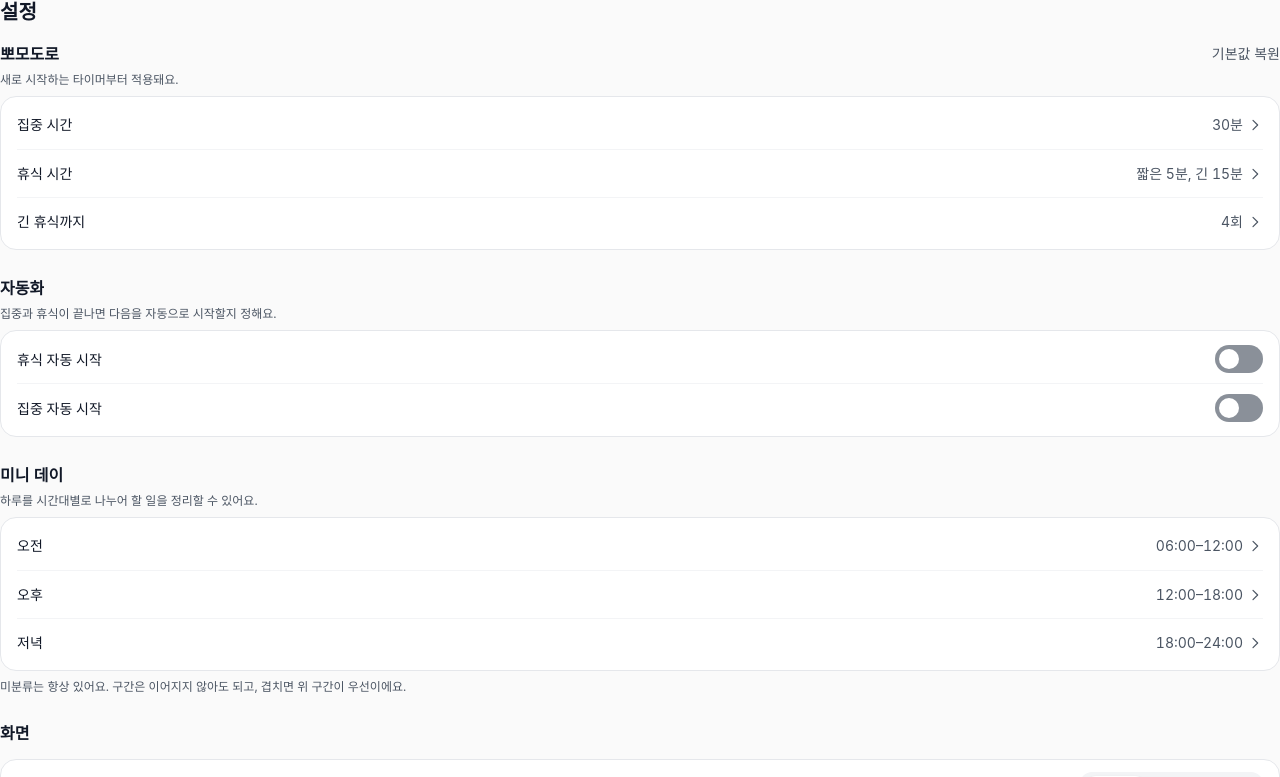
Test: PomodoroSettingsPage › 기본값 복원 뒤 버튼이 사라져도 포커스를 그 섹션 첫 행으로 옮긴다
Click the button "기본값 복원" at (1240, 54), box [1200,36,1279,72]
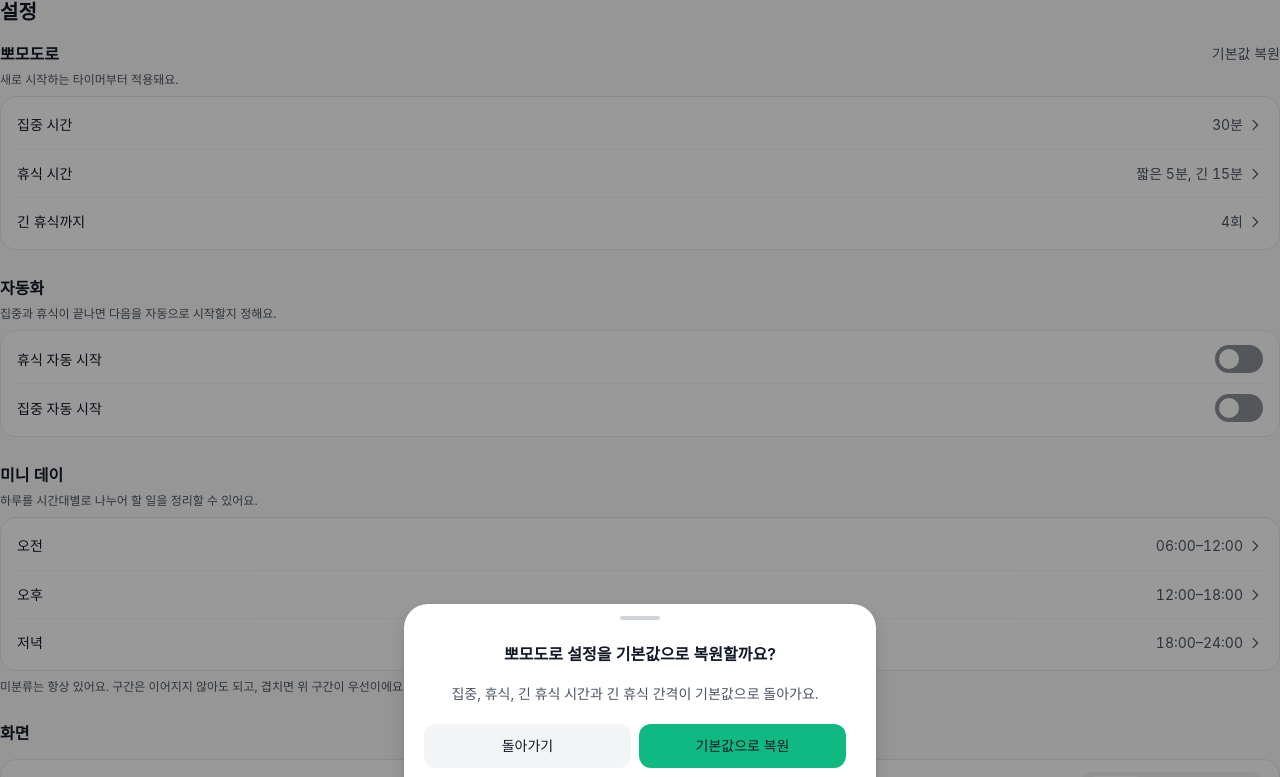
Click the button "기본값으로 복원" at (742, 746), box [639,724,846,768]
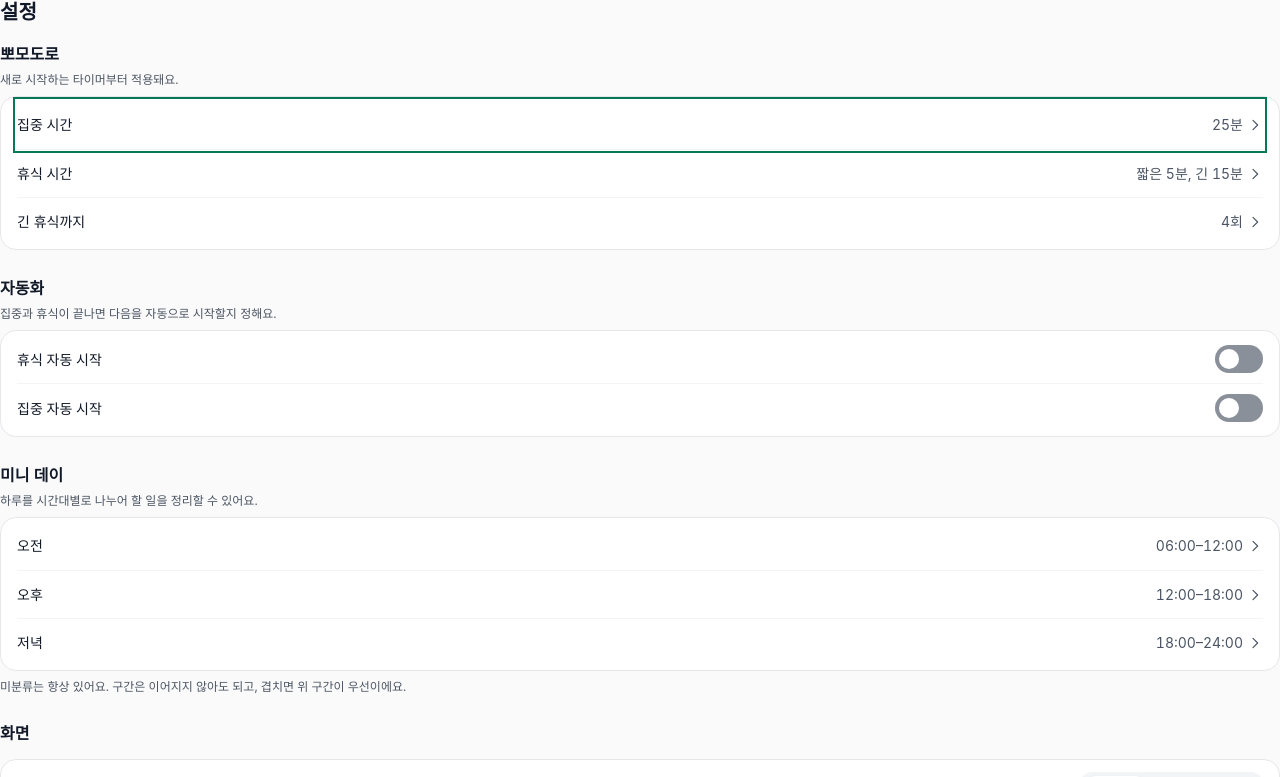
Expected: the button "기본값 복원" is gone
